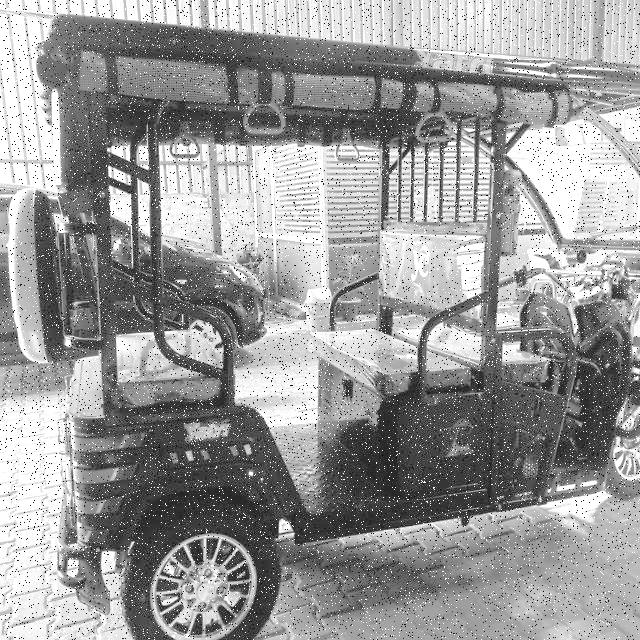Toto: (32, 10, 640, 640)
